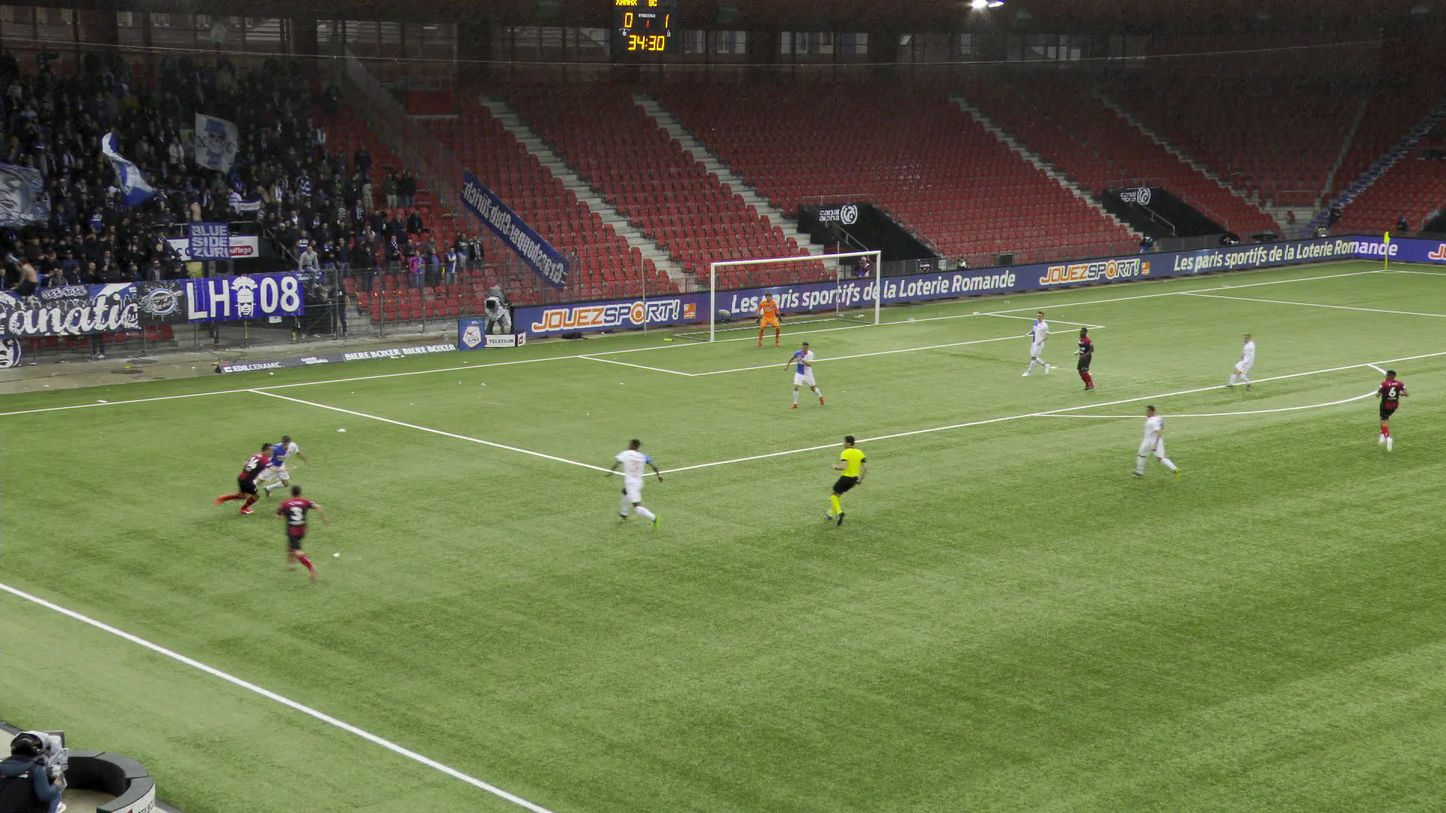ball: (279, 504, 291, 516)
player: (608, 440, 668, 525), (219, 443, 288, 514), (278, 486, 330, 575), (243, 435, 313, 497), (1134, 406, 1182, 478), (1371, 370, 1408, 448), (782, 341, 819, 409), (1223, 331, 1259, 387), (1022, 311, 1050, 377), (1074, 326, 1097, 391), (755, 293, 782, 346)
referee: (823, 436, 868, 523)
